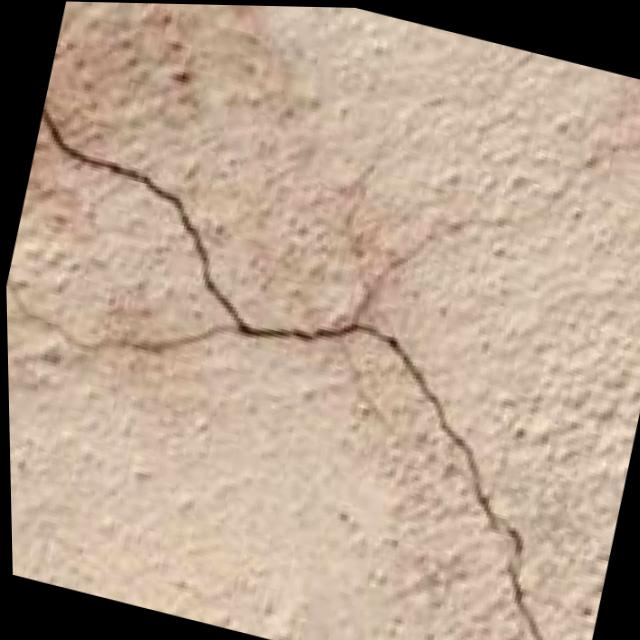Crack: (1, 69, 640, 640)
